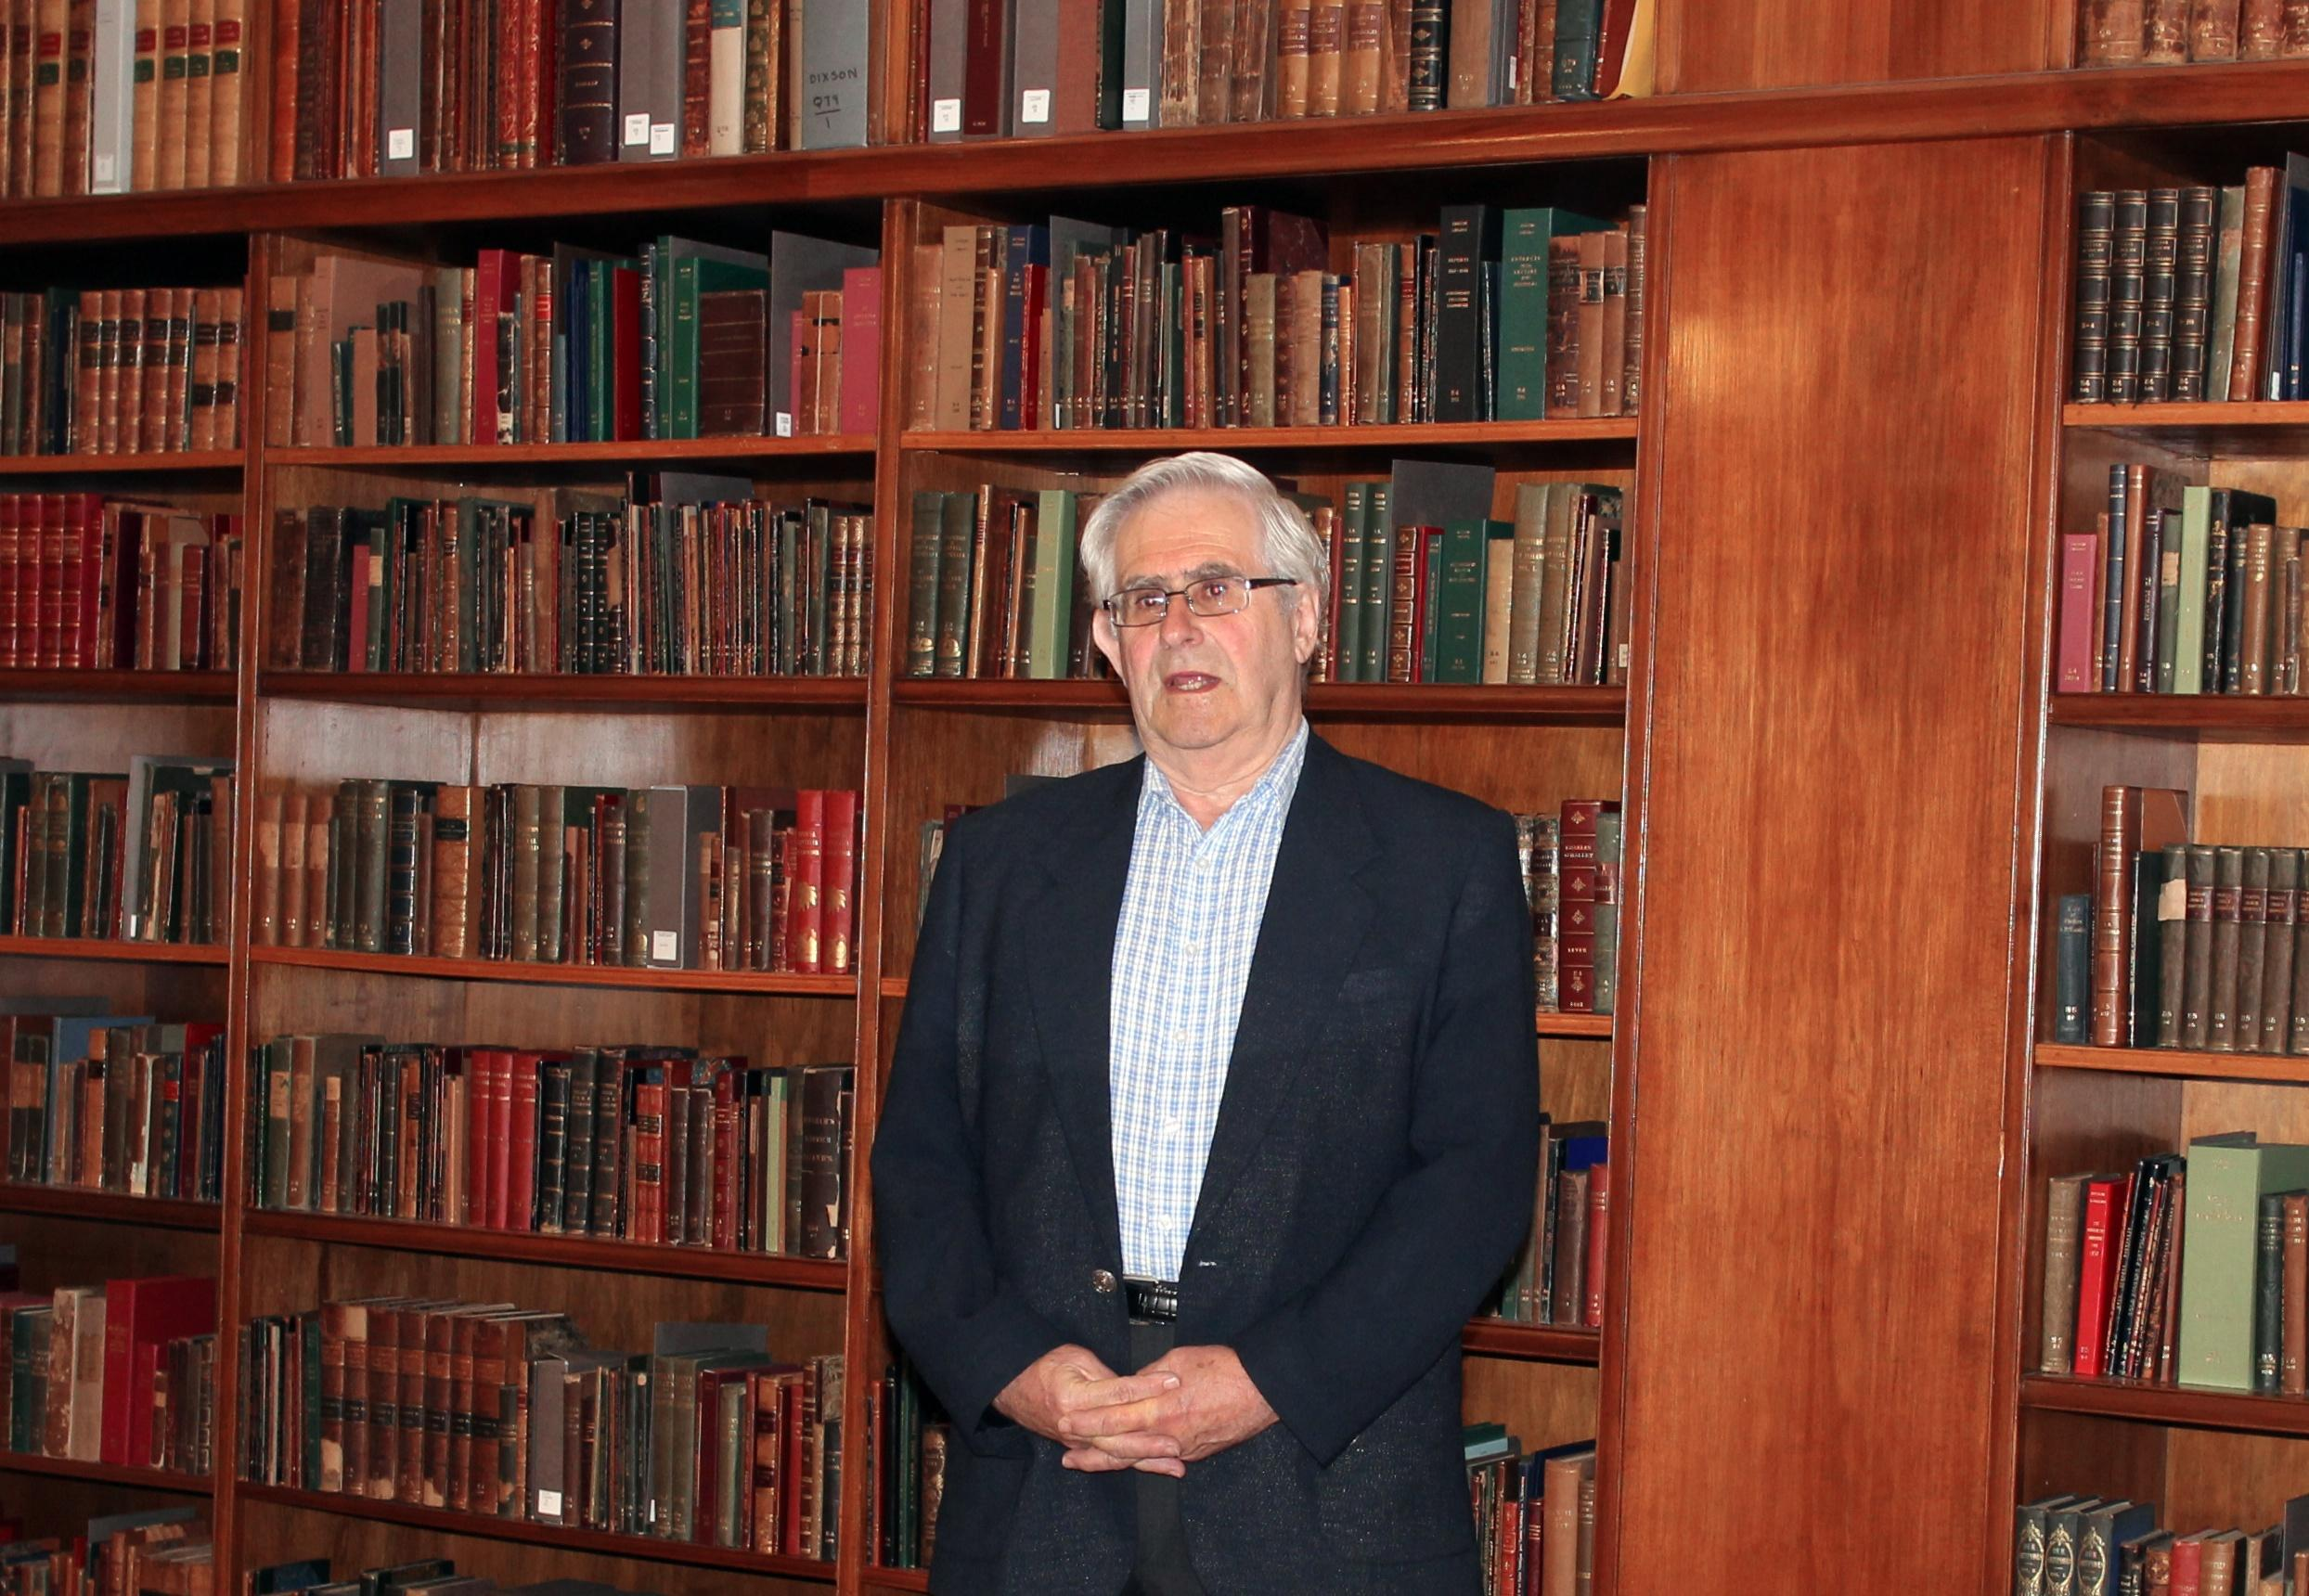Rak: (837, 149, 1658, 1594), (225, 189, 905, 1594), (1998, 93, 2307, 1594), (0, 224, 258, 1594)
